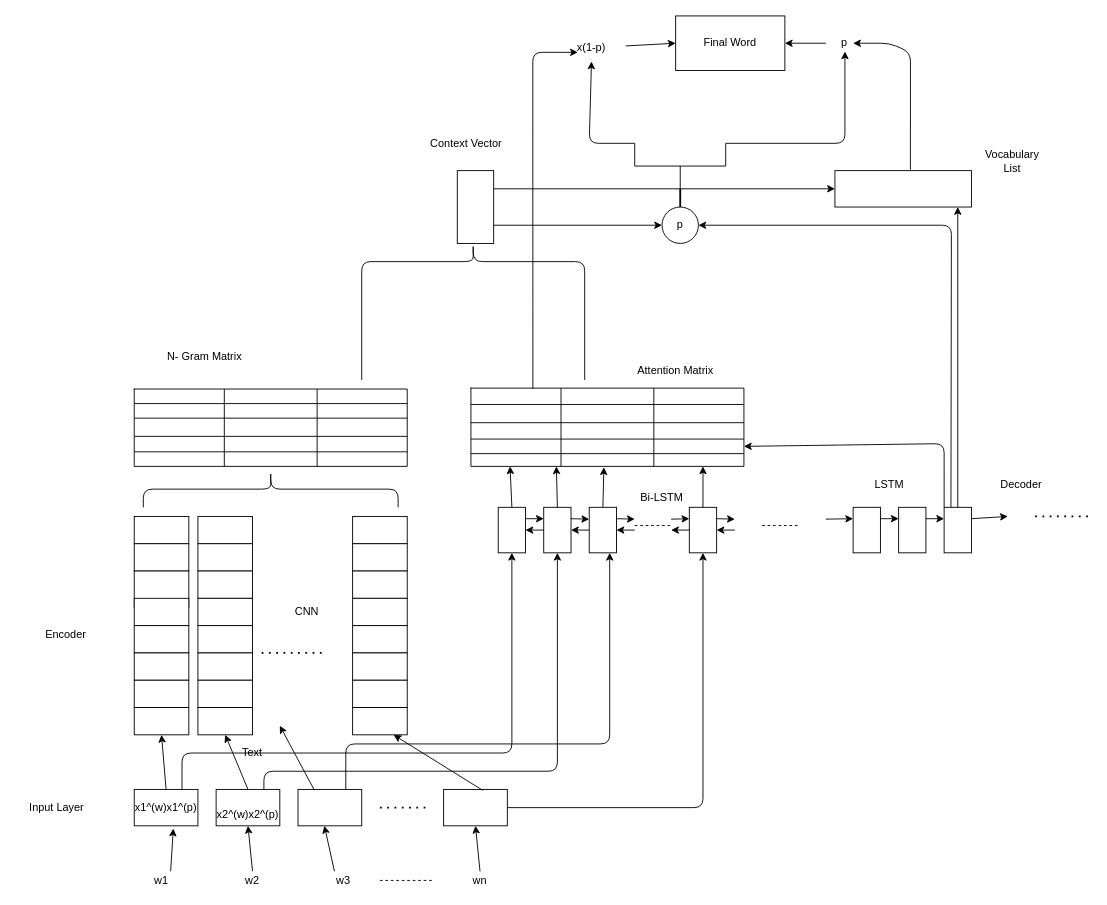
Some shapes in this 1107 by 905 pixel diagram are drawn without their labels. Each missing label, with the box of its shape:
x3^(w)x3^(p): (297, 789, 362, 826)
xn^(w)xn^(p): (443, 789, 507, 826)
